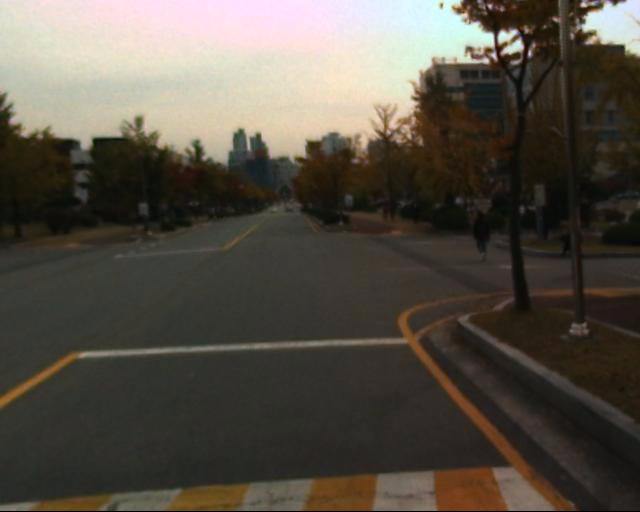person: (562, 218, 586, 279), (473, 210, 497, 268)
